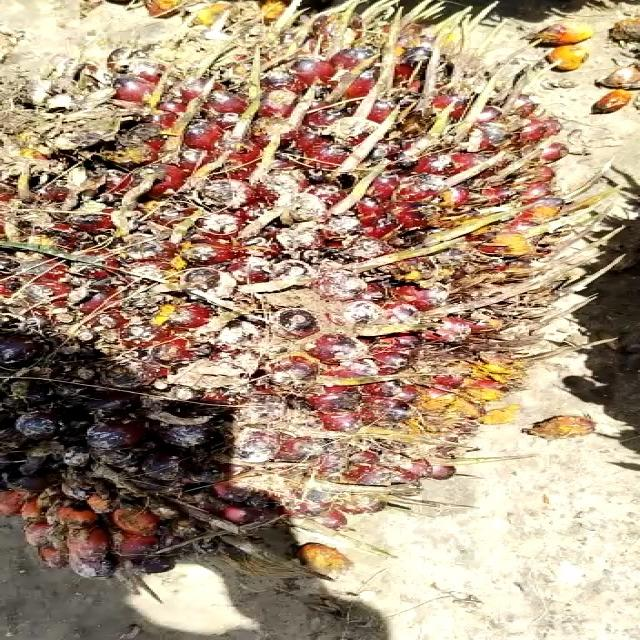palm oil: (0, 22, 640, 604)
